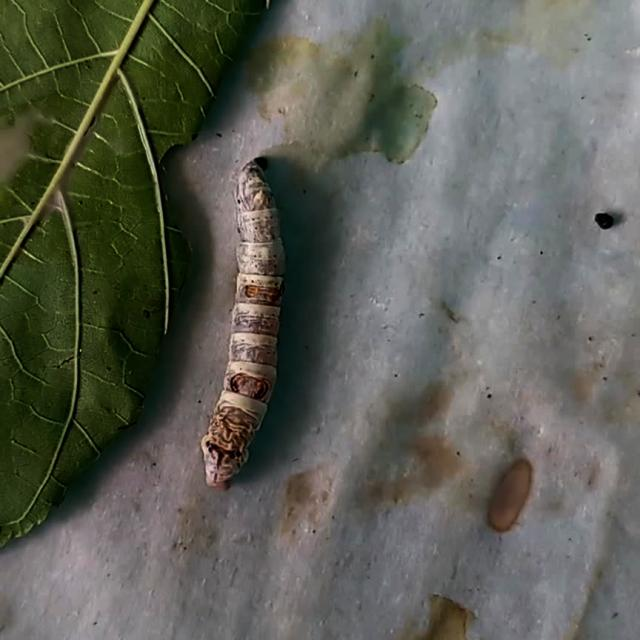Grasserie: (165, 135, 325, 506)
